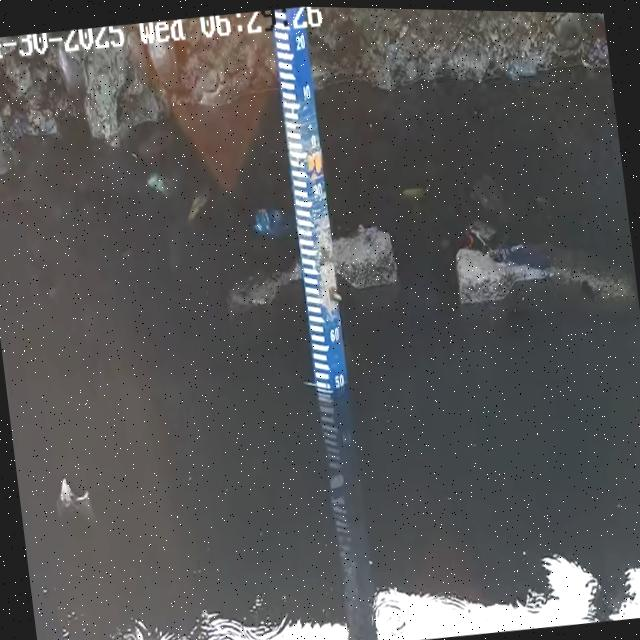water-meter: (261, 6, 358, 414)
